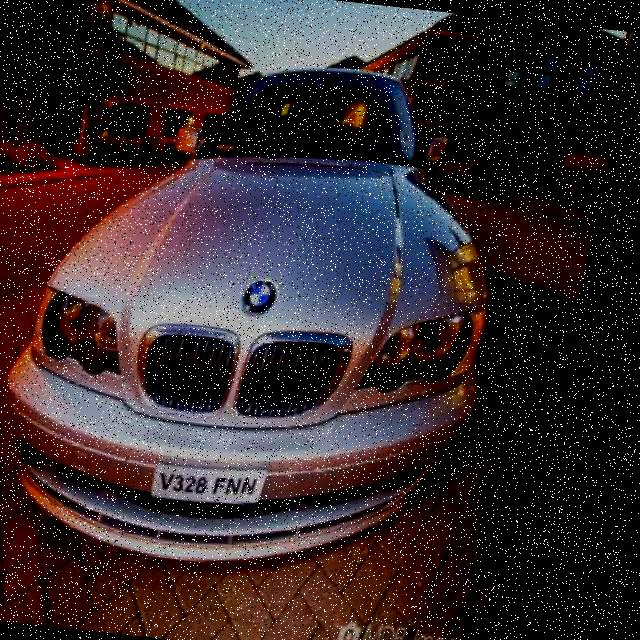license_plate: (164, 458, 290, 510)
